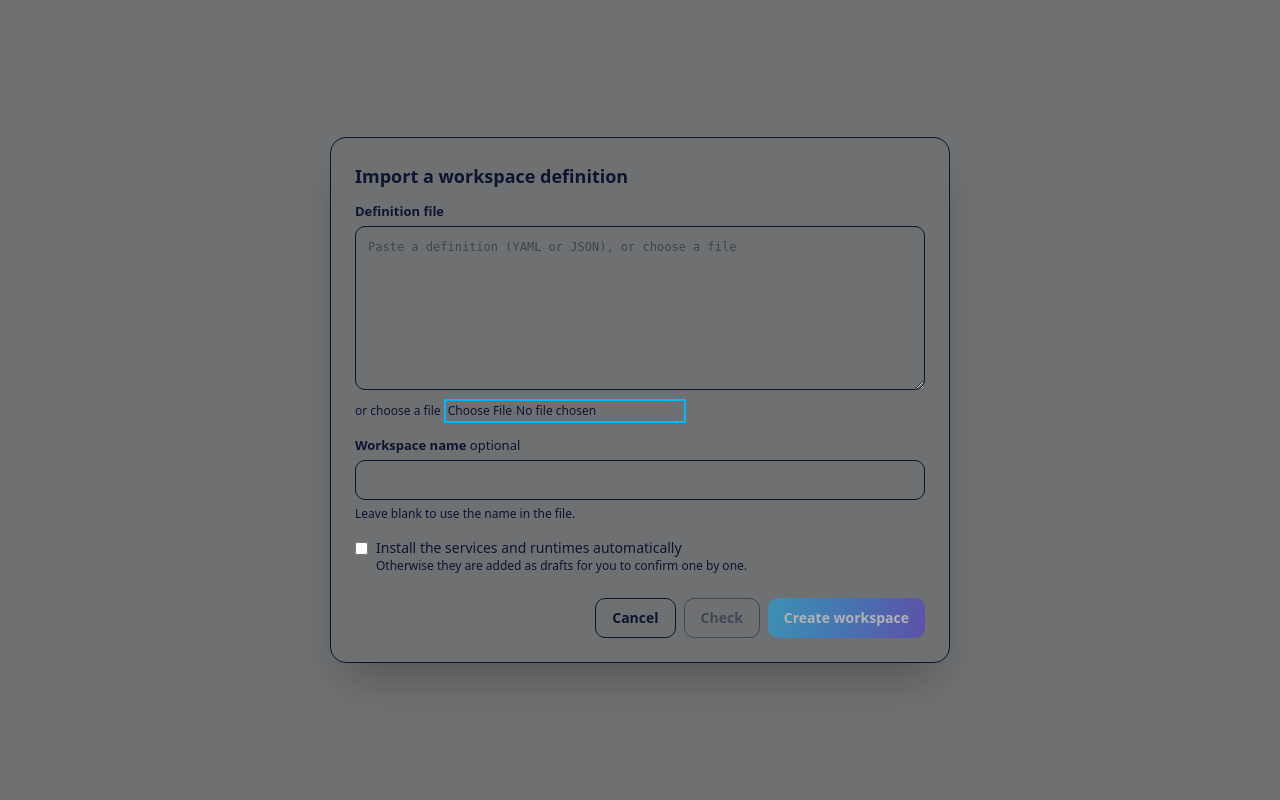
Test: ImportDefinitionDialog › shows each validation issue and invalidates a previous check when the file changes
In the text box labelled "Definition file": (640, 308) [355, 226, 925, 390], type "x"
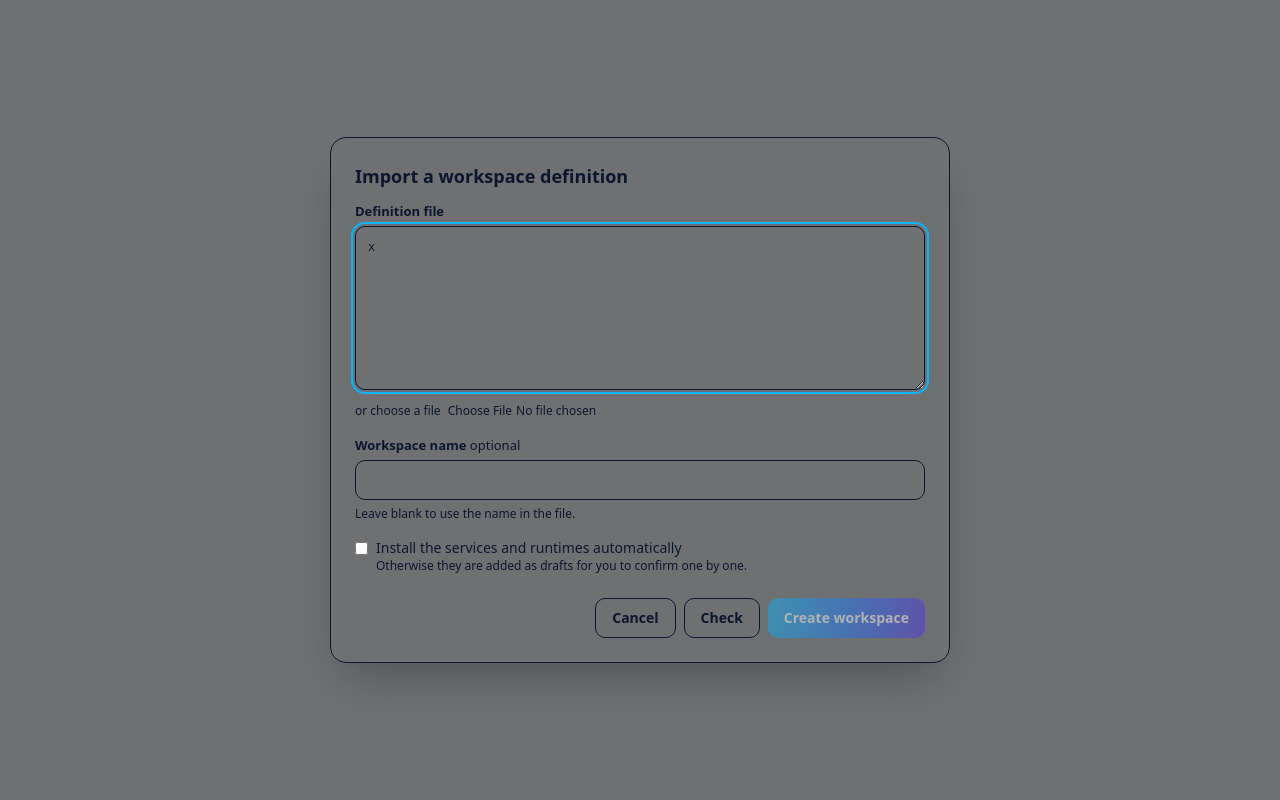
Click the button "Check": (722, 618) [684, 598, 760, 638]
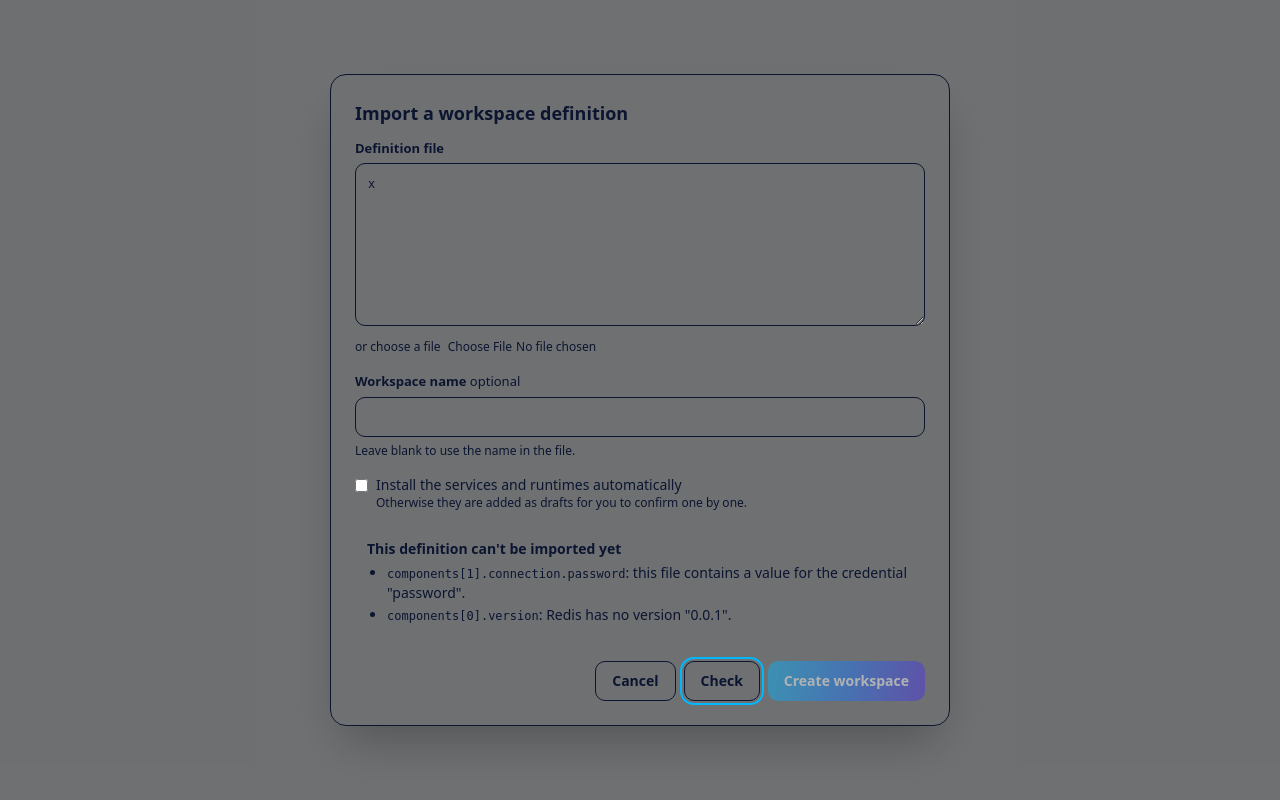
Expected: the message shows "can't be imported yet", [367, 539, 621, 558]
Expected: the text "components[1].connection.password" is shown, [387, 567, 625, 581]
Expected: the list item "components[0].version: Redis has no version \"0.0.1\"." is shown, [387, 605, 732, 624]
In the text box labelled "Definition file": (640, 245) [355, 163, 925, 326], type "y"
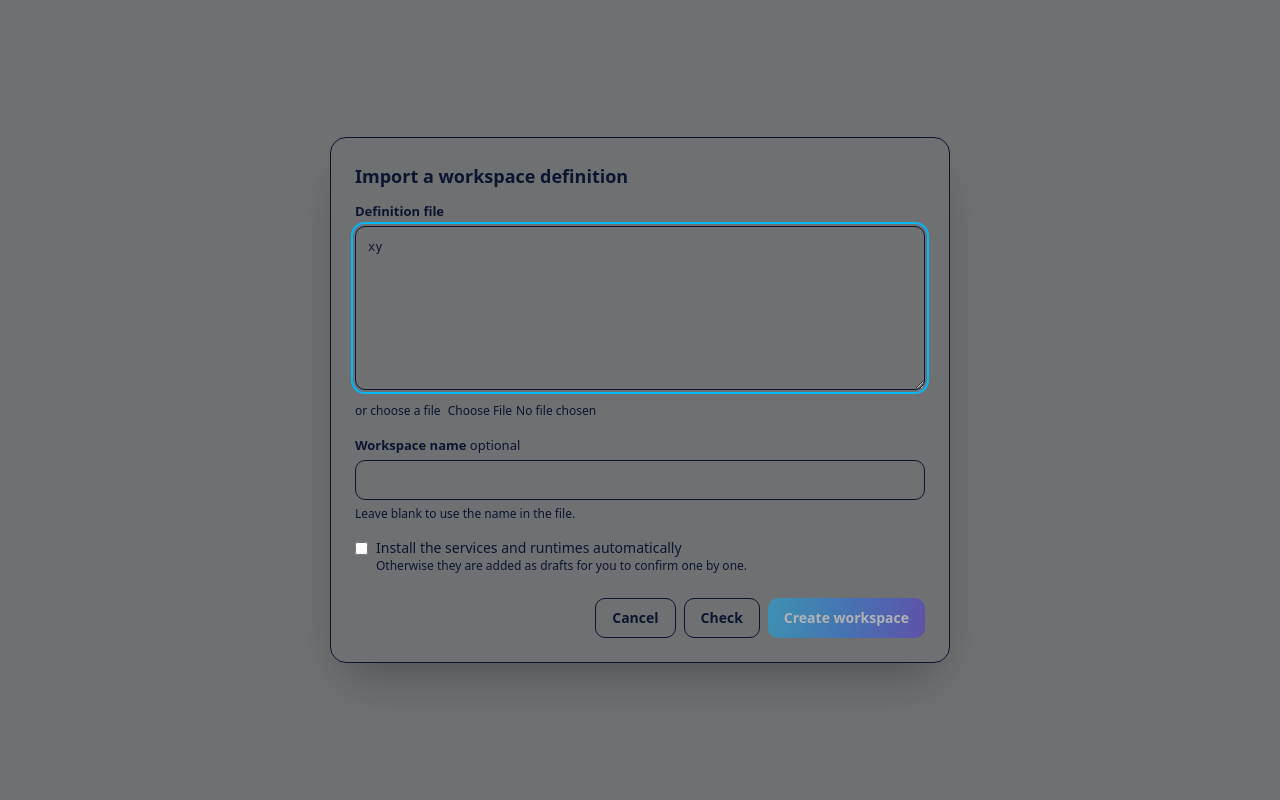
Expected: the message is gone
Click the button "Check": (722, 618) [684, 598, 760, 638]
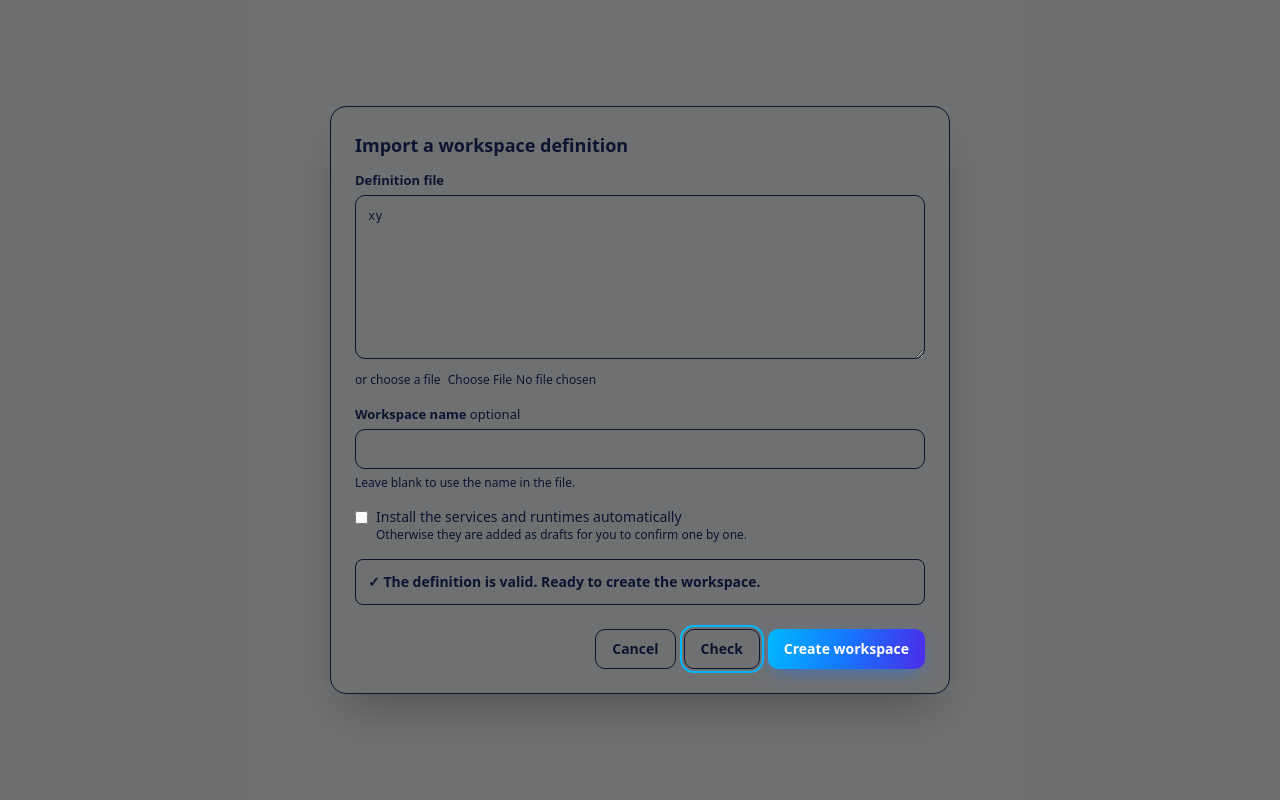
Expected: the button "Create workspace" is enabled, [768, 629, 925, 669]
